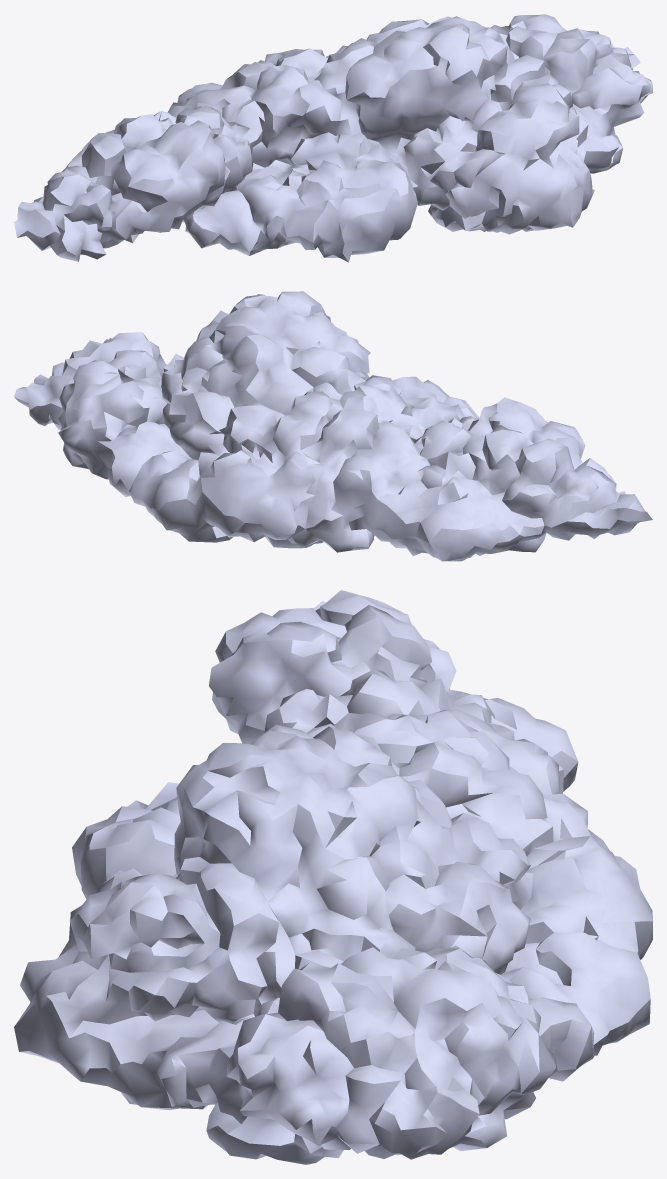
File: cloud_long_lite.glb
The picture shows the model from 3 angles, top to bottom: view 1: azimuth 30°, elevation 25°; view 2: azimuth 150°, elevation 25°; view 3: azimuth 270°, elevation 25°; orthographic projection. The views are drawn at different scales.
Parts seen in each view (by area): view 1: geometry_0; view 2: geometry_0; view 3: geometry_0.
Part boxes in pixels (x1,y1,x2,y2): geometry_0: (14, 14, 652, 262); geometry_0: (14, 291, 652, 561); geometry_0: (14, 590, 652, 1164).
Bounding box in the file's own units: 1.89 × 0.5469 × 0.993.
Materials: 1 (1 with a texture image).
